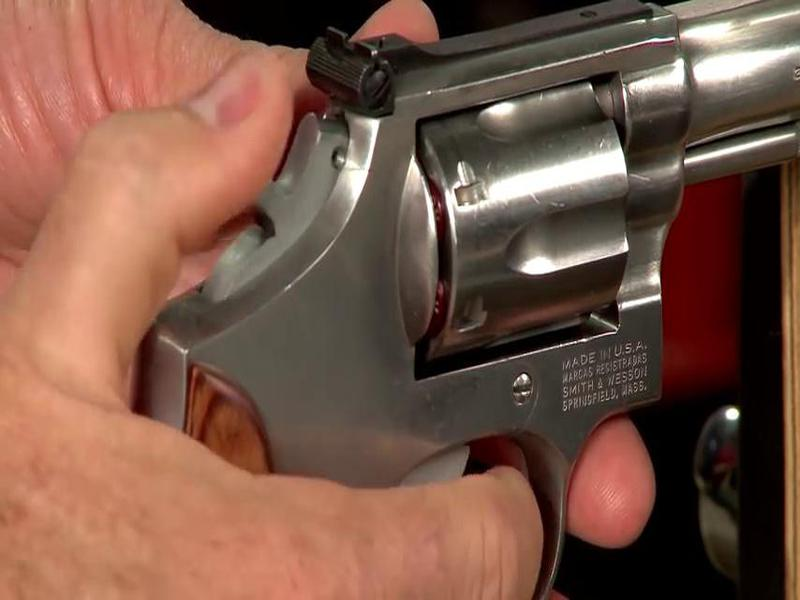Revolver: (158, 1, 797, 515)
